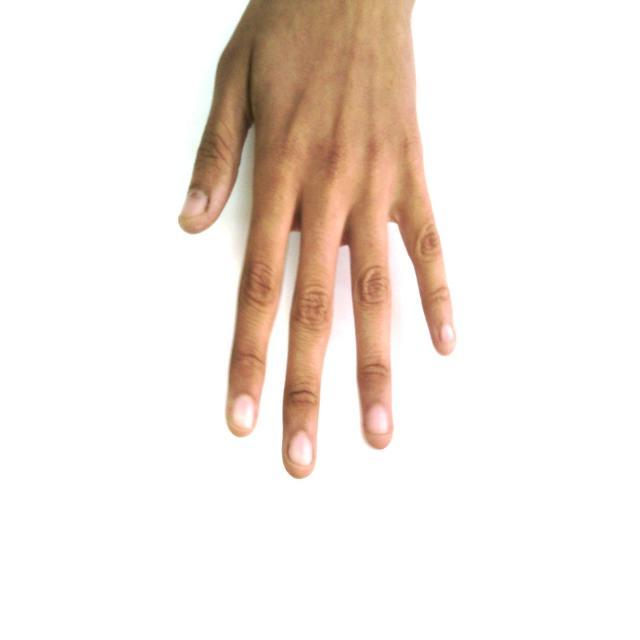Fingernail: (233, 395, 254, 430), (290, 432, 312, 465), (181, 191, 206, 218), (366, 405, 388, 433), (441, 325, 454, 345)
